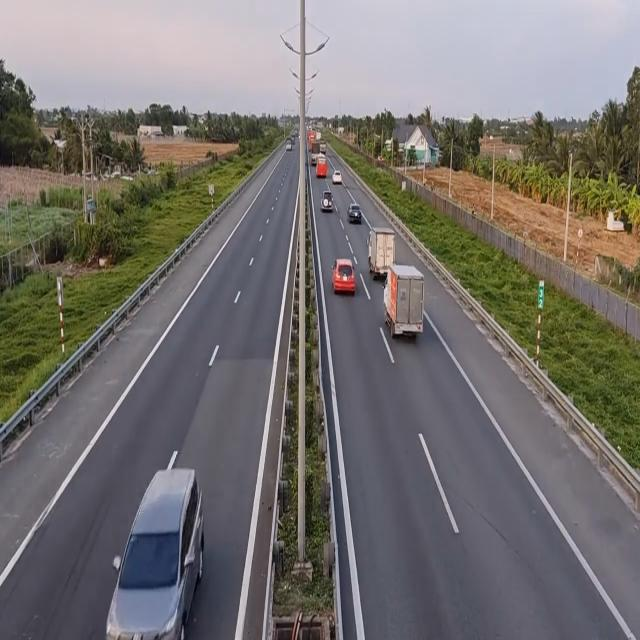car: (103, 466, 204, 639), (333, 258, 358, 297), (348, 203, 362, 225), (321, 188, 333, 212), (332, 172, 342, 186)
truck: (382, 266, 426, 340), (369, 228, 396, 279)
